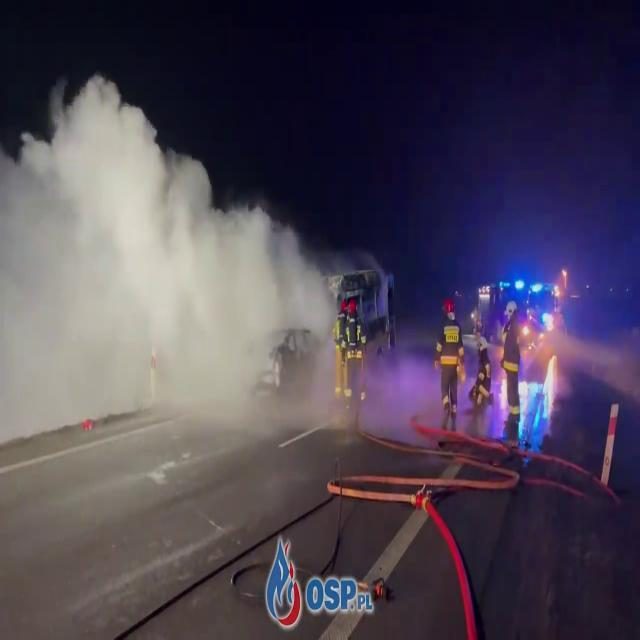Smoke: (0, 62, 334, 443)
